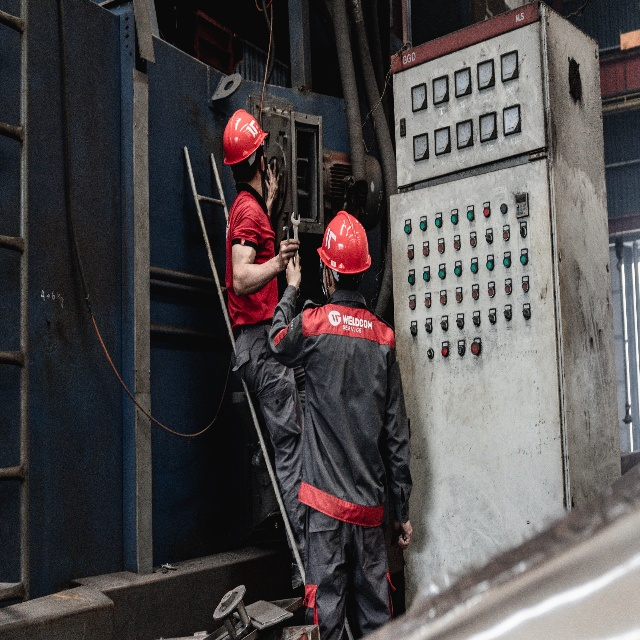Mascara: (320, 270, 332, 295)
Sin_guantes: (278, 237, 300, 270), (265, 158, 280, 204), (285, 253, 301, 291), (394, 520, 413, 549)
